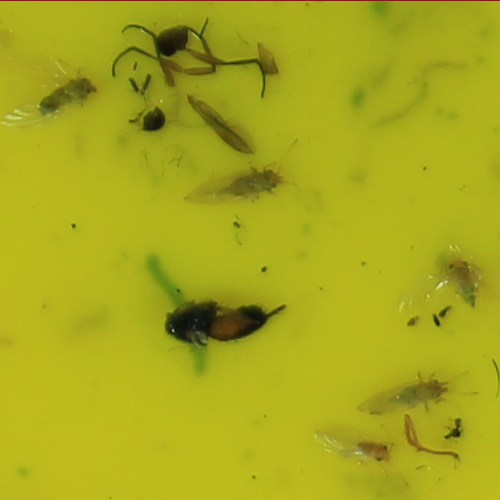psylla: (38, 70, 99, 119), (224, 164, 284, 201), (392, 374, 454, 408), (441, 254, 479, 306), (355, 437, 394, 465)
